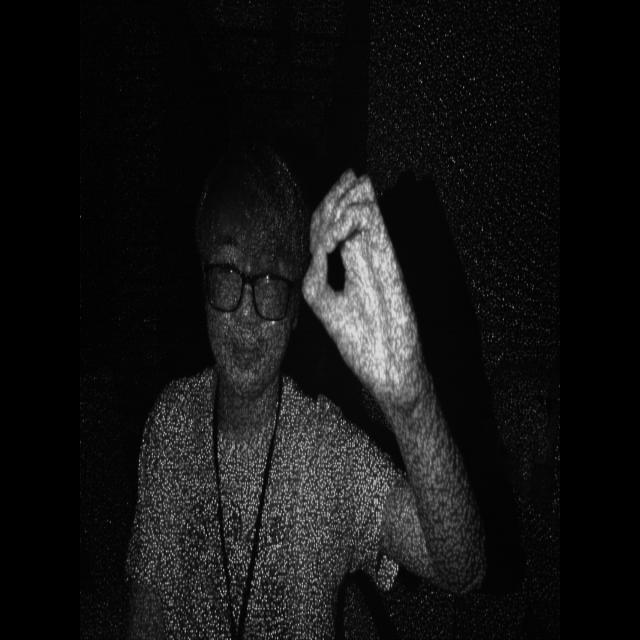O: (294, 154, 424, 393)
